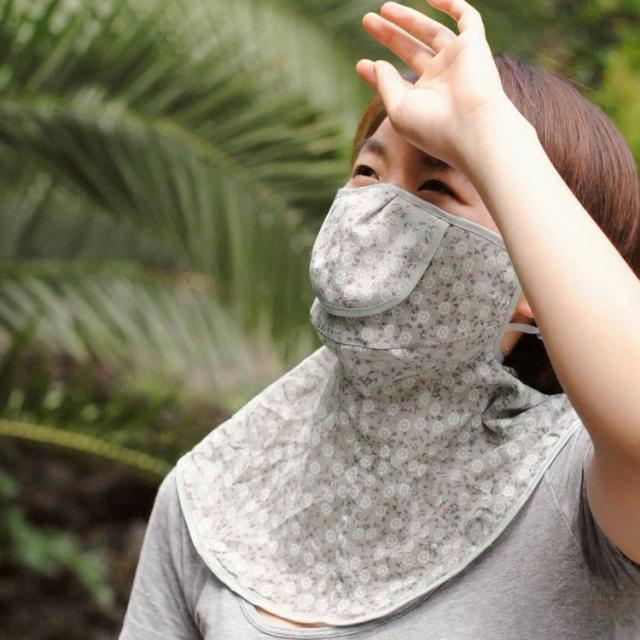mask: (307, 84, 522, 339)
